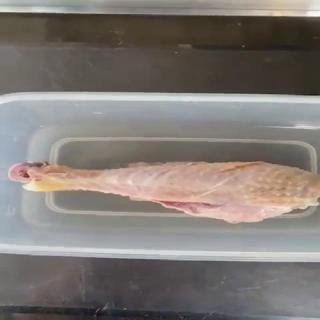Ayam: (8, 161, 320, 225)
